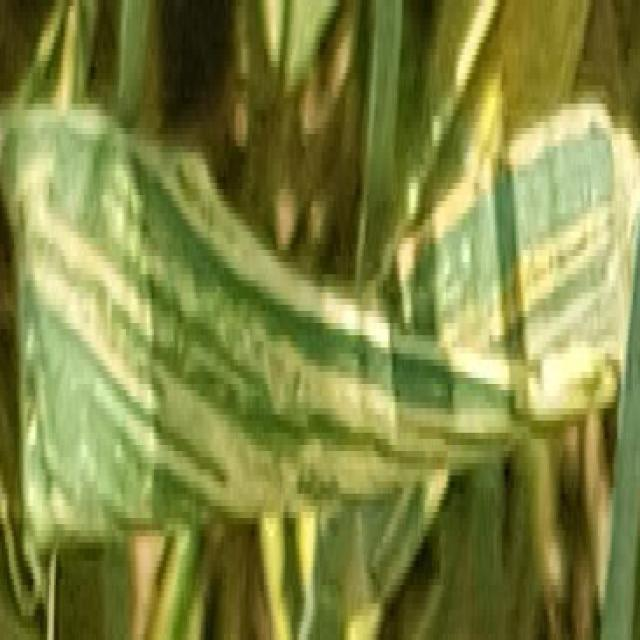Yellow Rust: (27, 127, 621, 457)
